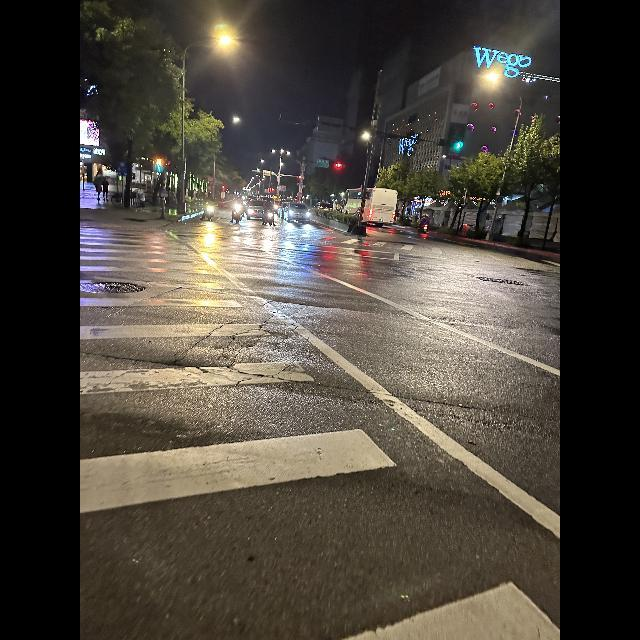sidewalk: (80, 226, 560, 640)
